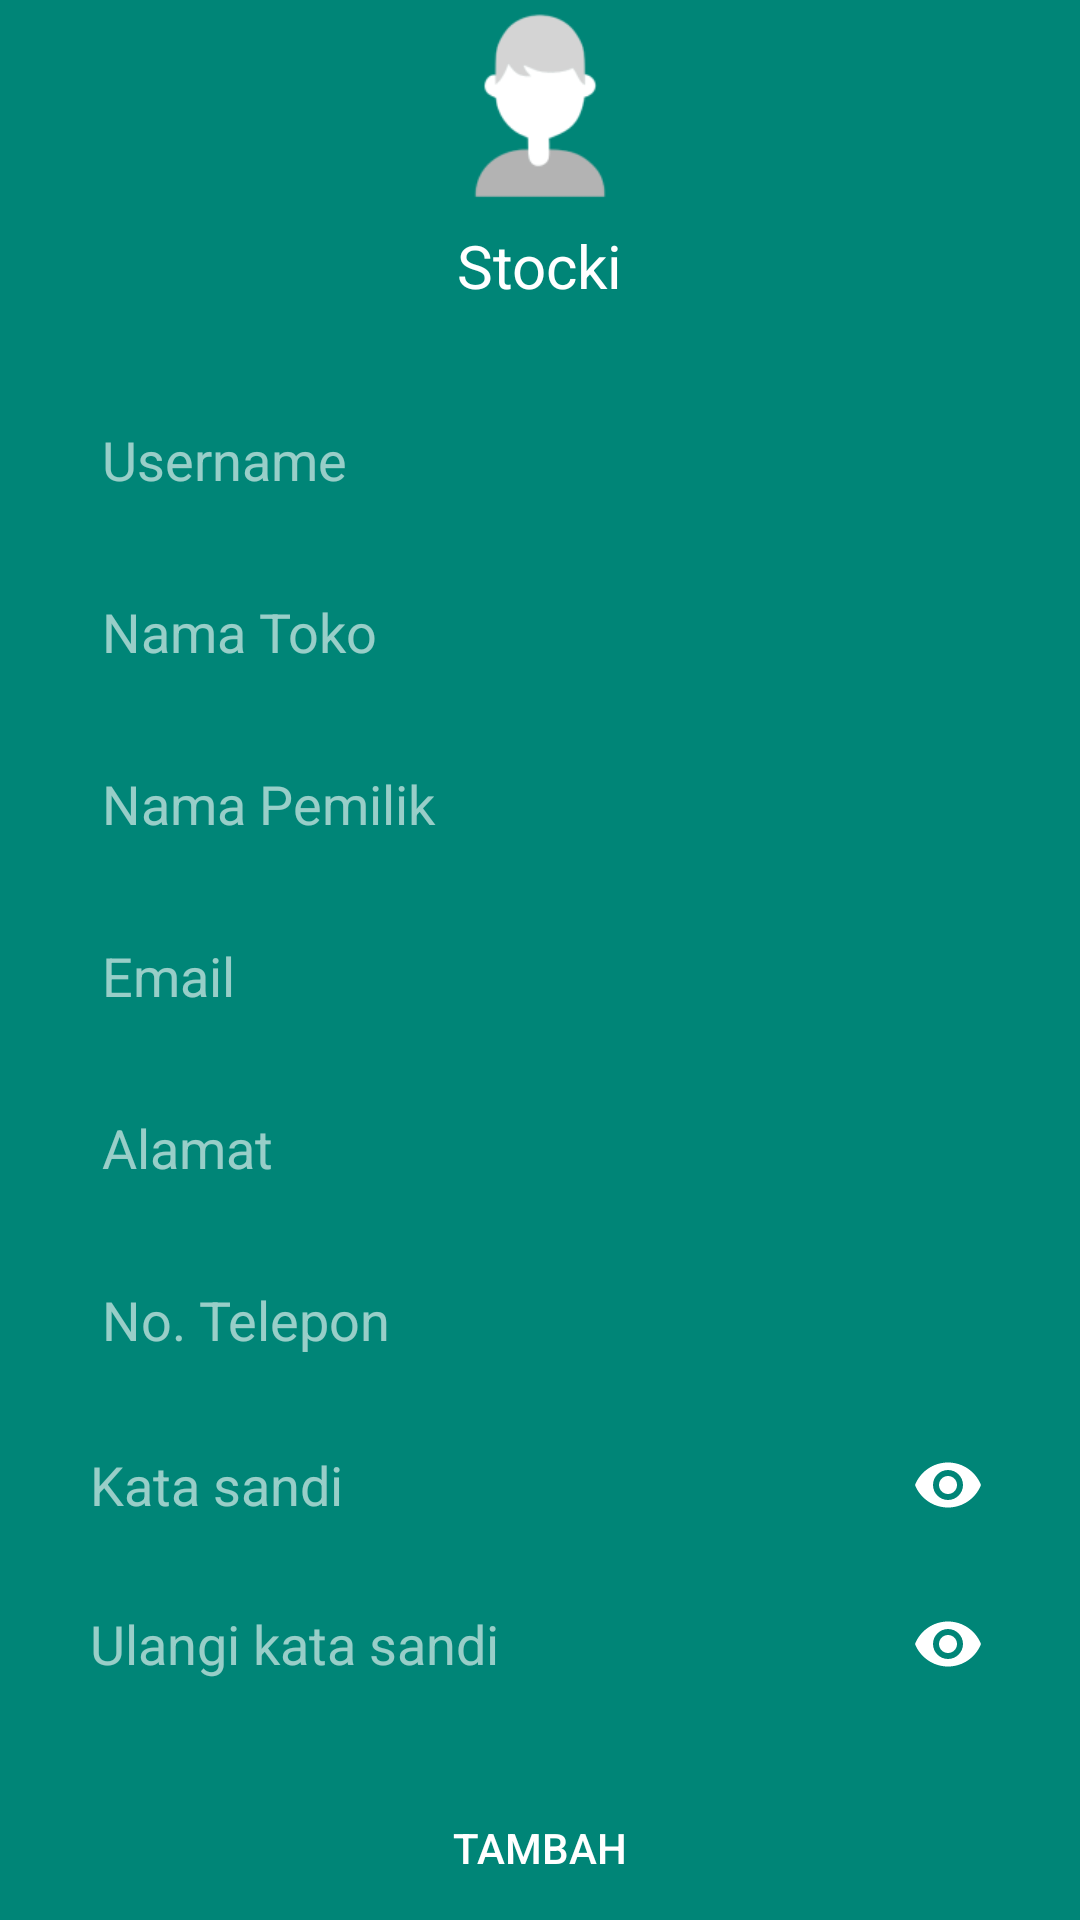

Icon bounding boxes for this 1080×1920 phone screenshot, format (x1, y1, x2, y2):
admin: (475, 14, 606, 197)
